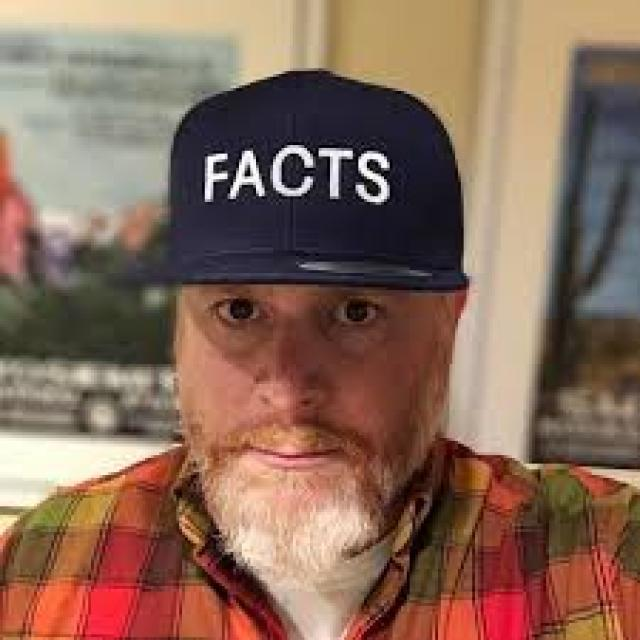3_gorra: (160, 65, 468, 292)
